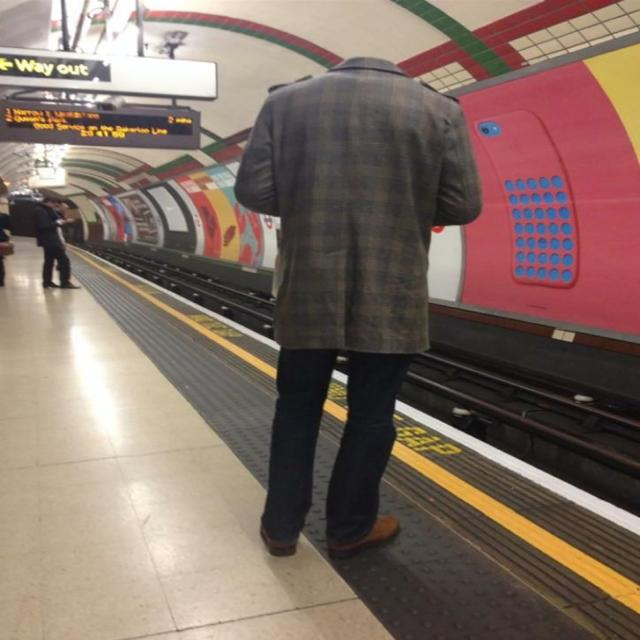body: (228, 49, 486, 562), (32, 196, 81, 288), (36, 198, 77, 272), (0, 210, 17, 288)
